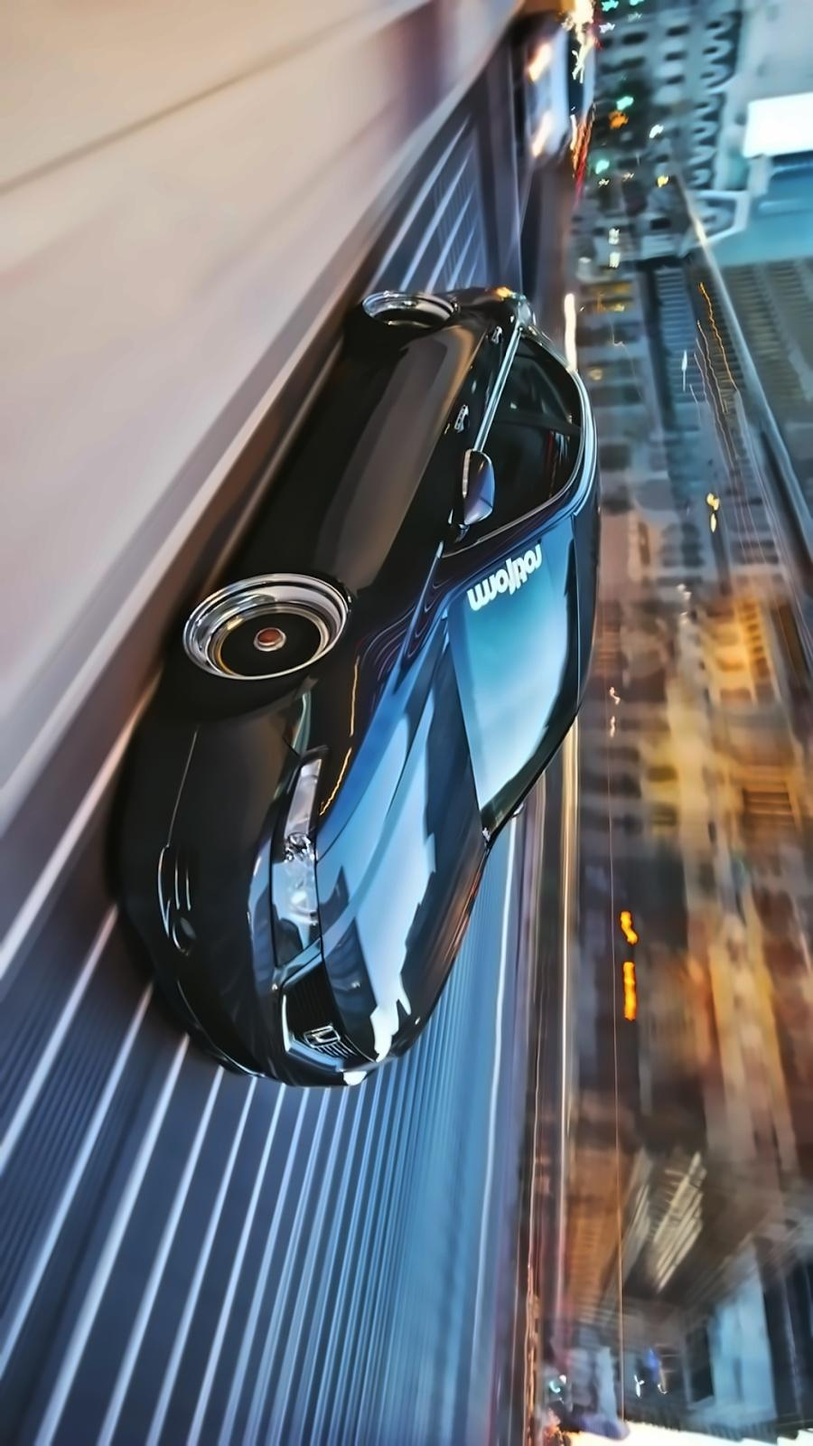Car hood: (312, 584, 486, 1066)
Driver-s door - -F-R-: (226, 399, 603, 582)
Fender - -F-R-: (260, 556, 446, 737)
Front bumper: (101, 667, 354, 1089)
Headlight - -R-: (264, 754, 328, 967)
Passenger-s door - -R-R-: (265, 313, 600, 443)
Side bumper - -R-: (235, 327, 404, 578)
Side mirror - -R-: (443, 438, 495, 539)
